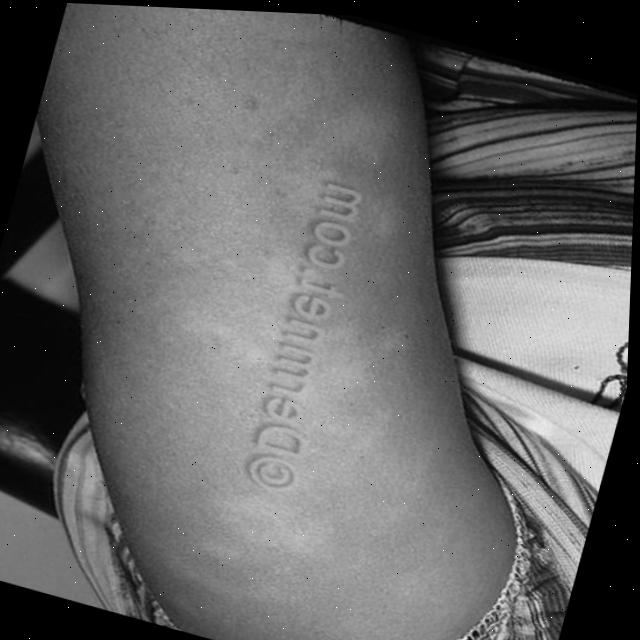Eczema: (57, 13, 495, 614)
